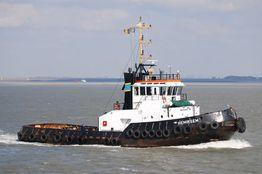otherboat: (14, 18, 248, 147)
